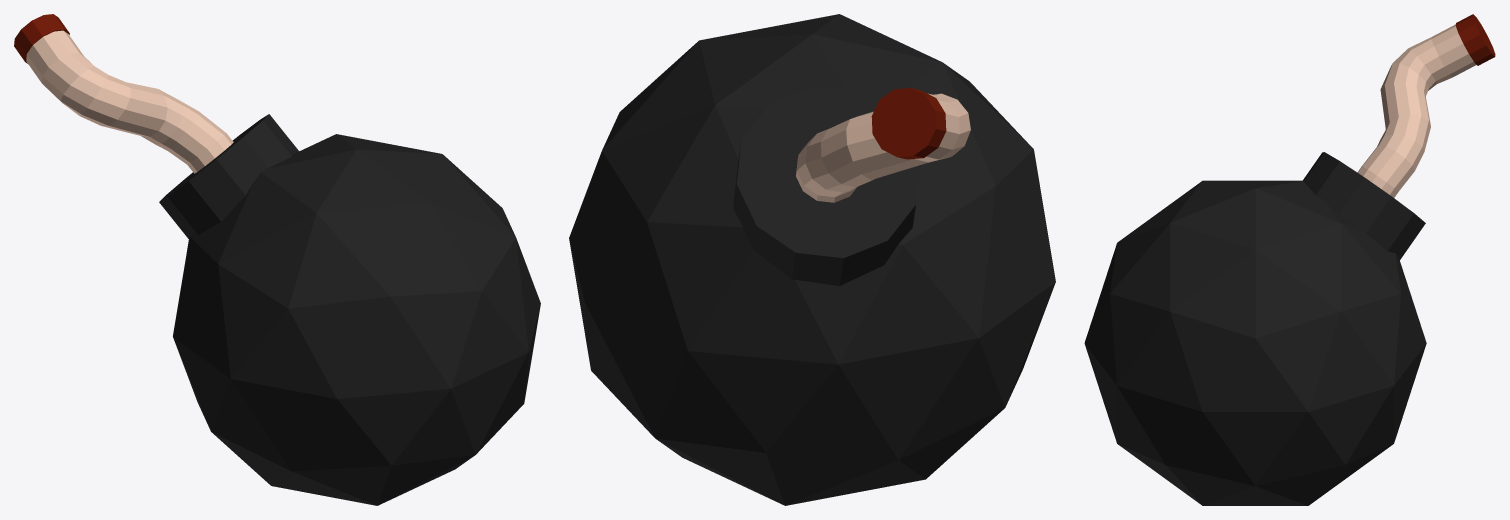
The model's file is bomb.fbx.
3 views of the same model, side by side, from view 1: azimuth 30°, elevation 25°; view 2: azimuth 150°, elevation 25°; view 3: azimuth 270°, elevation 25° (orthographic). The views are drawn at different scales.
Parts seen in each view (by area): view 1: Bomb; view 2: Bomb; view 3: Bomb.
Boxes of the visible parts, box(x1,y1,x2,y2) form: Bomb: box(14, 14, 540, 505); Bomb: box(569, 14, 1055, 505); Bomb: box(1084, 14, 1495, 505).
Bounding box in the file's own units: 229 × 255 × 240.
